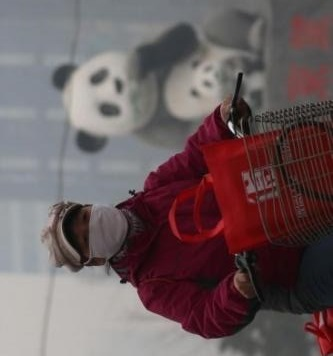person: (37, 105, 258, 341)
